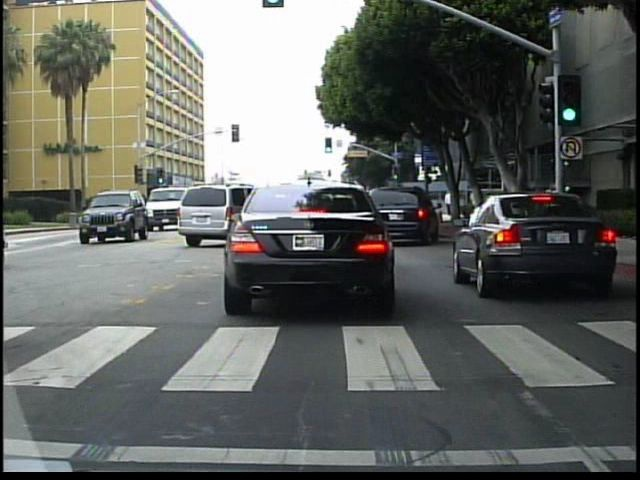person: (552, 175, 571, 234), (442, 187, 456, 218)
